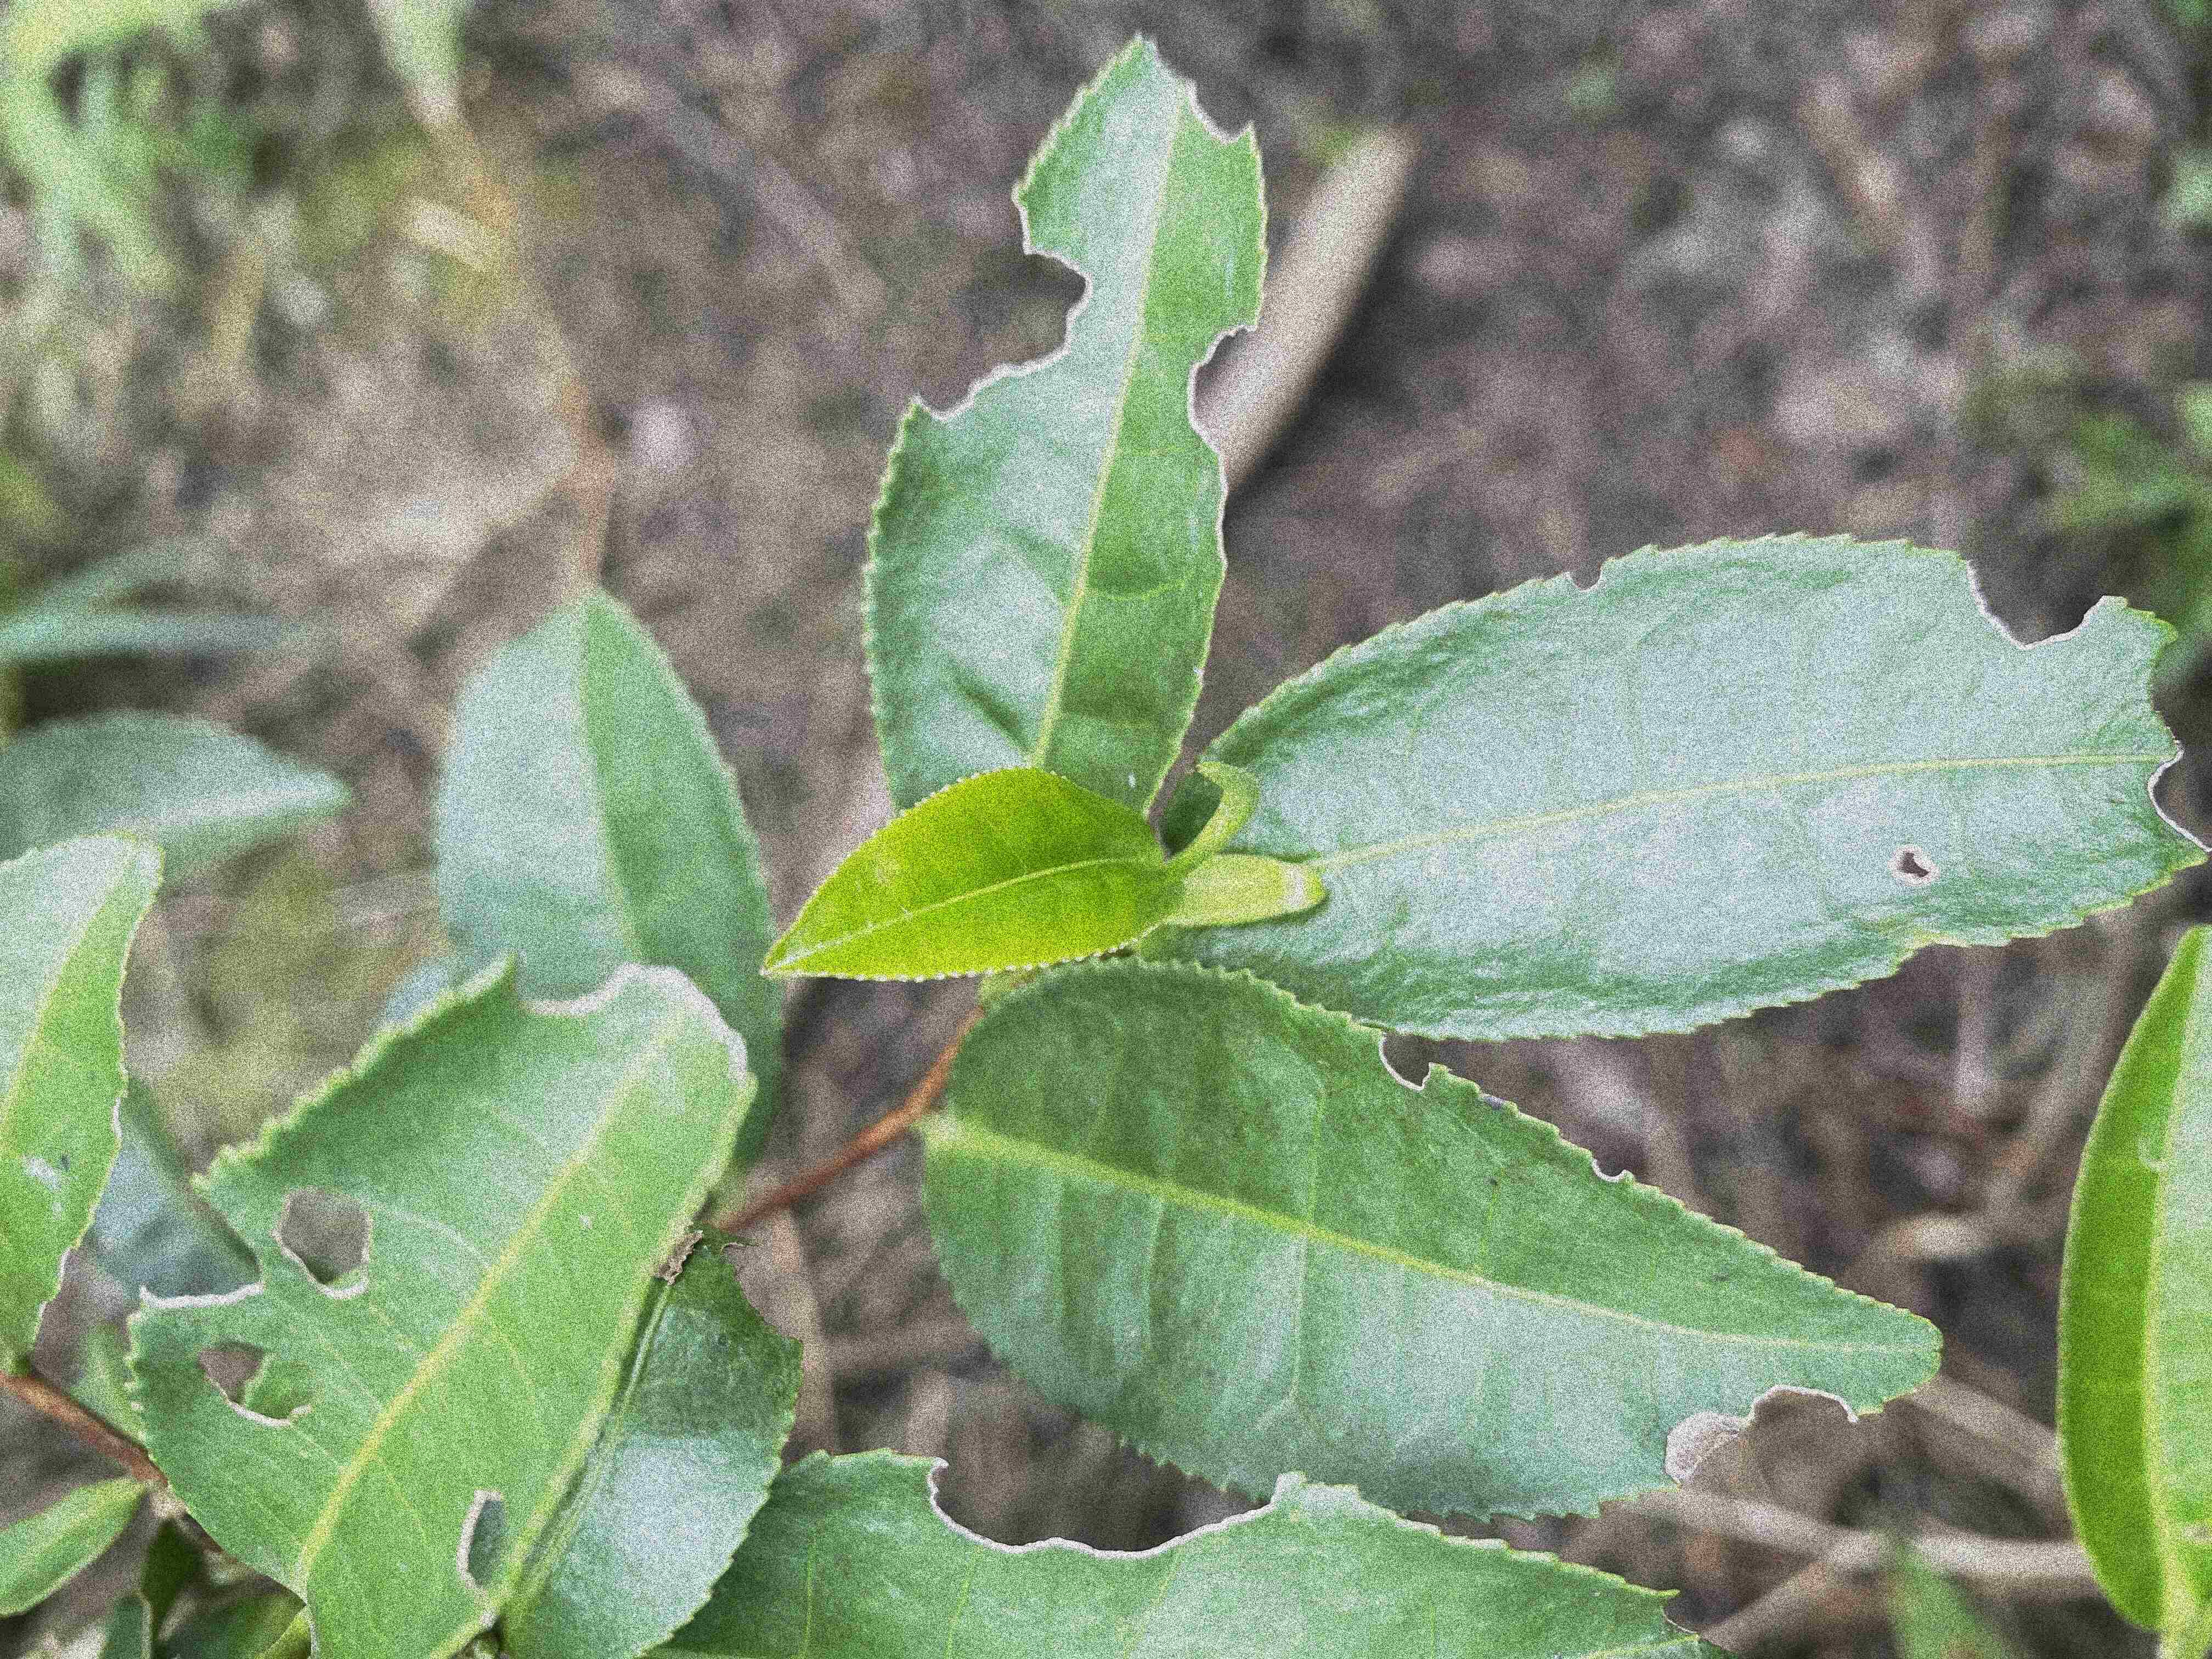chihuo_high: (1148, 532, 2207, 1042), (124, 953, 759, 1656), (859, 33, 1270, 812), (671, 1452, 1749, 1656)
healthy: (758, 765, 1186, 983)
